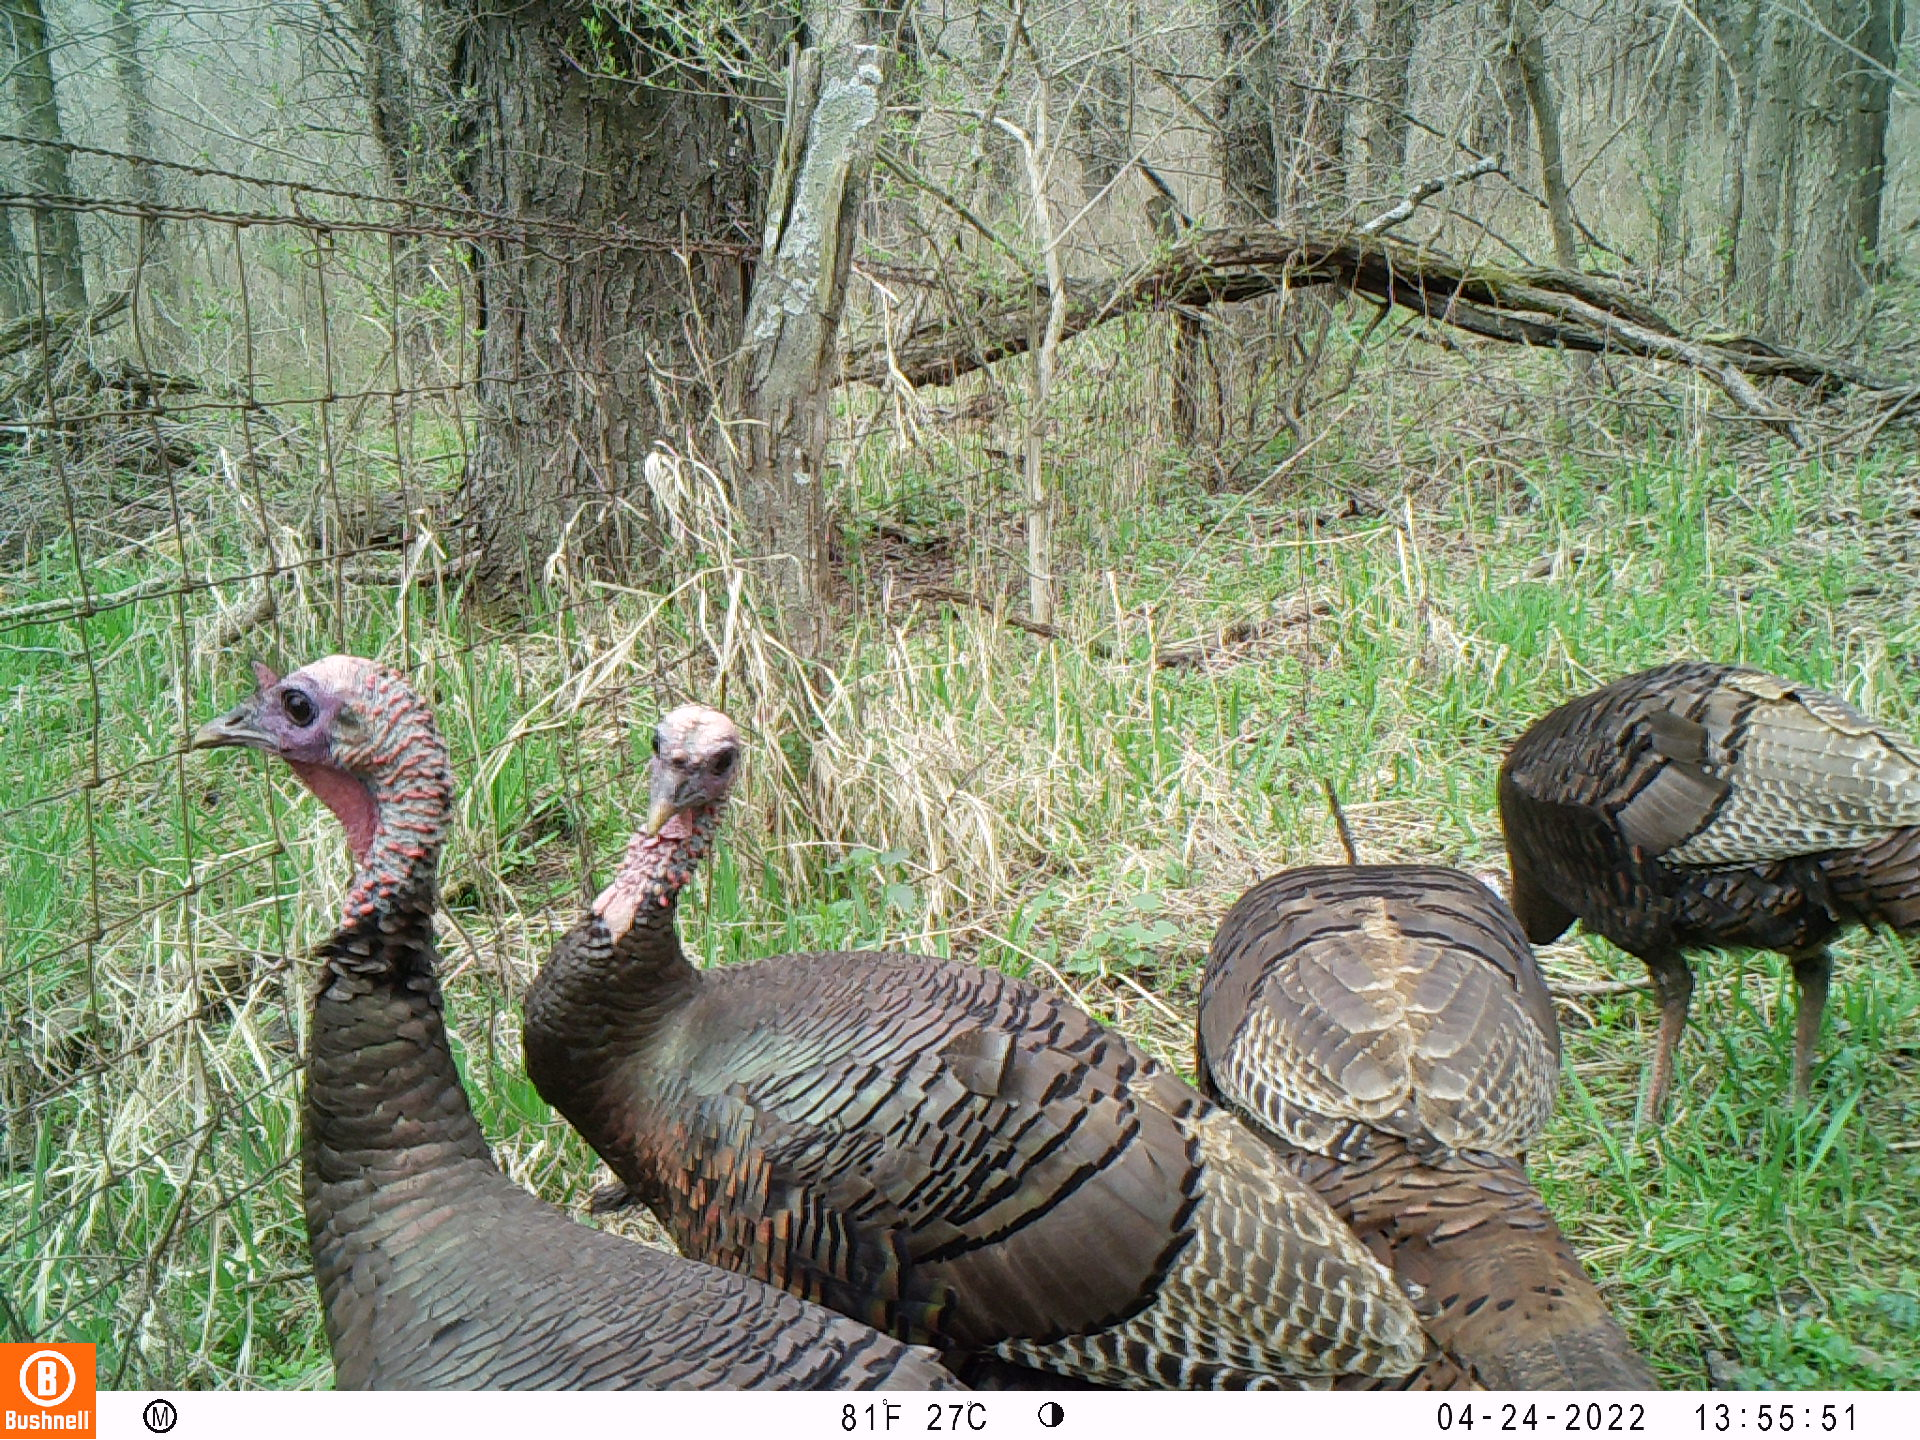Turkey: (516, 700, 1489, 1392), (184, 656, 965, 1392), (1191, 859, 1652, 1393), (1494, 659, 1914, 1006)
